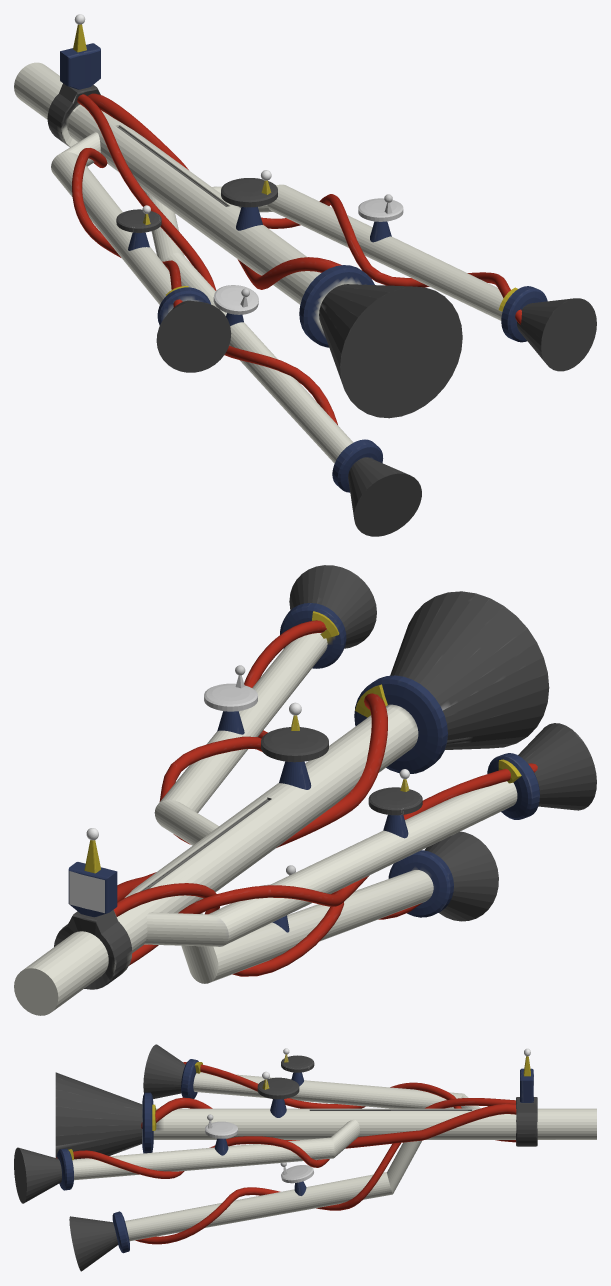
The model's file is Torbellino.fbx.
3 renders of one model, top to bottom at view 1: azimuth 30°, elevation 25°; view 2: azimuth 150°, elevation 25°; view 3: azimuth 270°, elevation 25°, orthographic. The views are drawn at different scales.
Visible parts, largest first — view 1: Cylinder, Cylinder.006, Cylinder.011, Cylinder.007, Cylinder.010; view 2: Cylinder, Cylinder.006, Cylinder.010, Cylinder.007; view 3: Cylinder, Cylinder.006, Cylinder.007, Cylinder.010, Cylinder.011.
Part boxes in pixels (x1,y1,x2,y2): Cylinder: (14,14,596,536); Cylinder.006: (221,170,277,207); Cylinder.011: (213,285,258,314); Cylinder.007: (358,194,403,221); Cylinder.010: (116,205,161,232); Cylinder: (14,565,596,1015); Cylinder.006: (261,702,328,762); Cylinder.010: (368,769,422,815); Cylinder.007: (204,665,257,711); Cylinder: (14,1044,596,1271); Cylinder.006: (257,1071,299,1099); Cylinder.007: (205,1114,237,1138); Cylinder.010: (281,1048,314,1072); Cylinder.011: (280,1162,313,1183).
Size of the model in its own units: 169 by 139 by 333.
